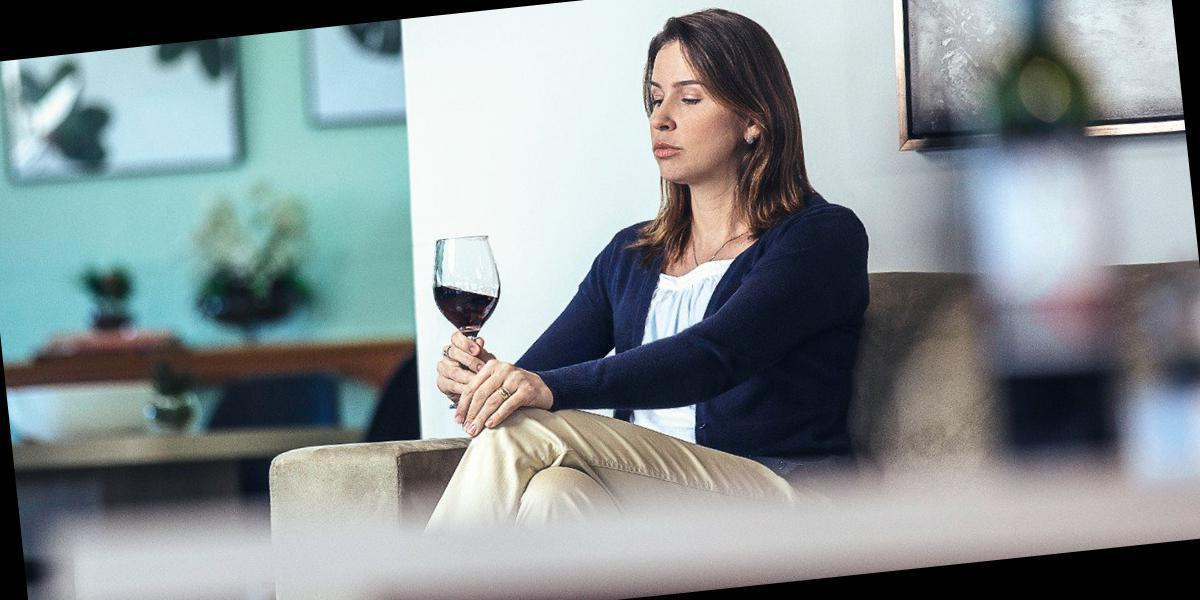Drunk: (643, 44, 730, 180)
